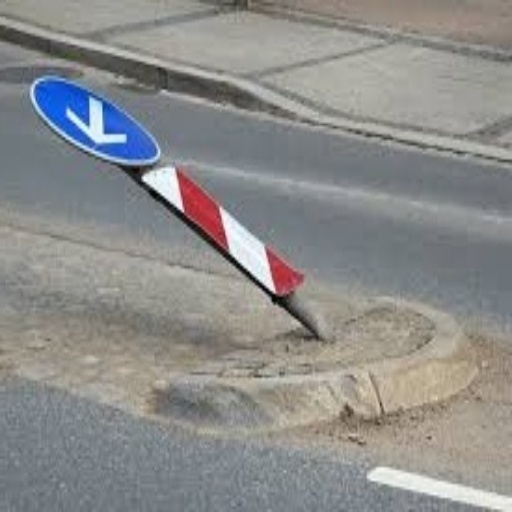Keep left: (27, 64, 171, 179)
